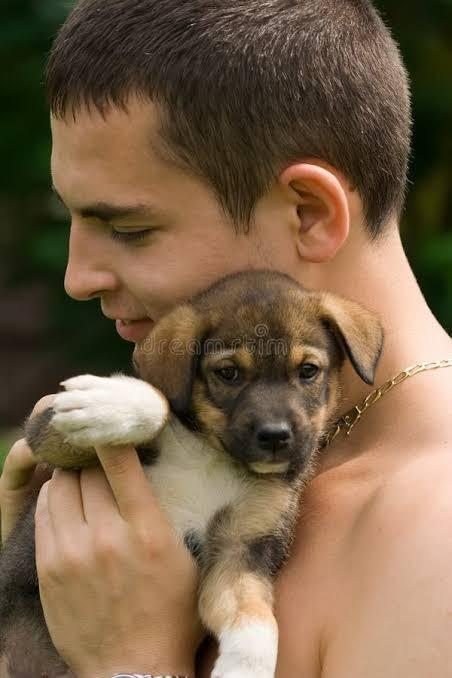non-dog: (0, 1, 452, 678)
puppy-dog: (2, 270, 385, 678)
